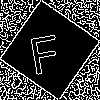F: (25, 25, 64, 76)
